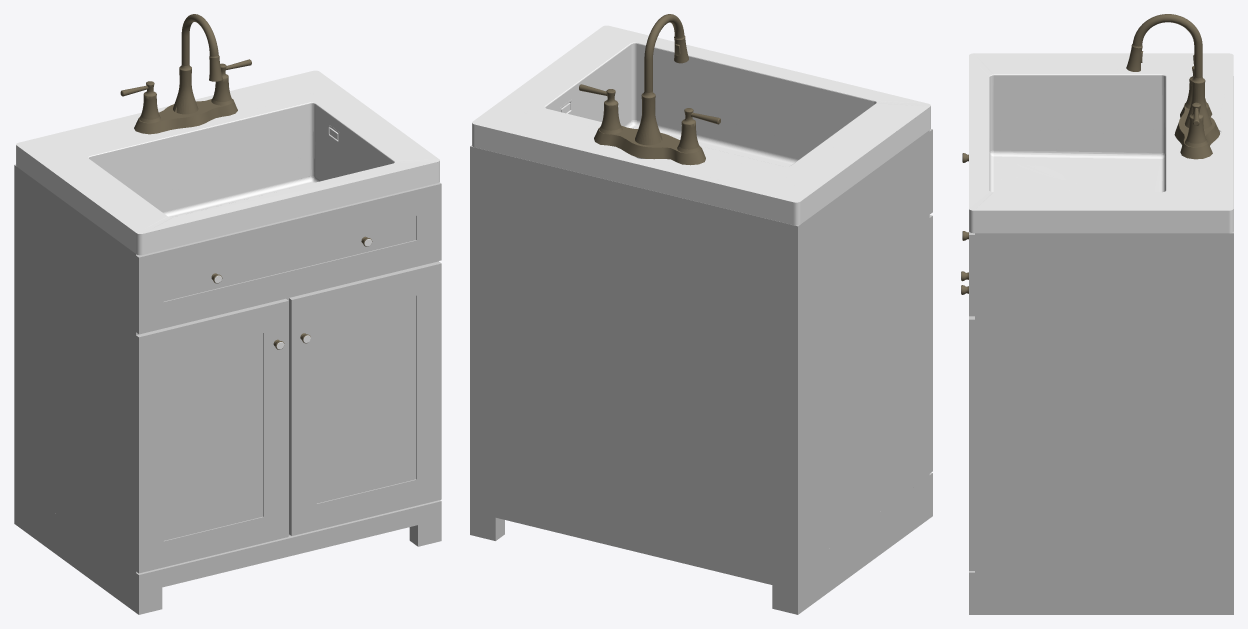
Rendered from sink.glb.
The picture shows the model from 3 angles, left to right: view 1: azimuth 30°, elevation 25°; view 2: azimuth 150°, elevation 25°; view 3: azimuth 270°, elevation 25°; orthographic projection. The views are drawn at different scales.
Visible parts, largest first — view 1: bathroom_sink_2, bathroom sink_1, Object_20, bathroom_sink_mixer; view 2: bathroom_sink_2, bathroom sink_1, Object_20, bathroom_sink_mixer; view 3: bathroom_sink_2, bathroom sink_1, Object_20, bathroom_sink_mixer.
Part boxes in pixels (box(x1,y1,x2,y2)): bathroom_sink_2: box(14, 164, 441, 614); bathroom sink_1: box(16, 70, 439, 349); Object_20: box(16, 145, 439, 255); bathroom_sink_mixer: box(120, 14, 372, 349); bathroom_sink_2: box(470, 129, 932, 614); bathroom sink_1: box(472, 25, 930, 202); Object_20: box(472, 107, 930, 225); bathroom_sink_mixer: box(579, 14, 720, 165); bathroom_sink_2: box(969, 76, 1233, 614); bathroom sink_1: box(961, 53, 1233, 293); Object_20: box(969, 131, 1233, 233); bathroom_sink_mixer: box(961, 14, 1219, 294).
Size of the model in its own units: 0.7747 by 1.2 by 0.5682.
Materials: 4 (1 with a texture image).
